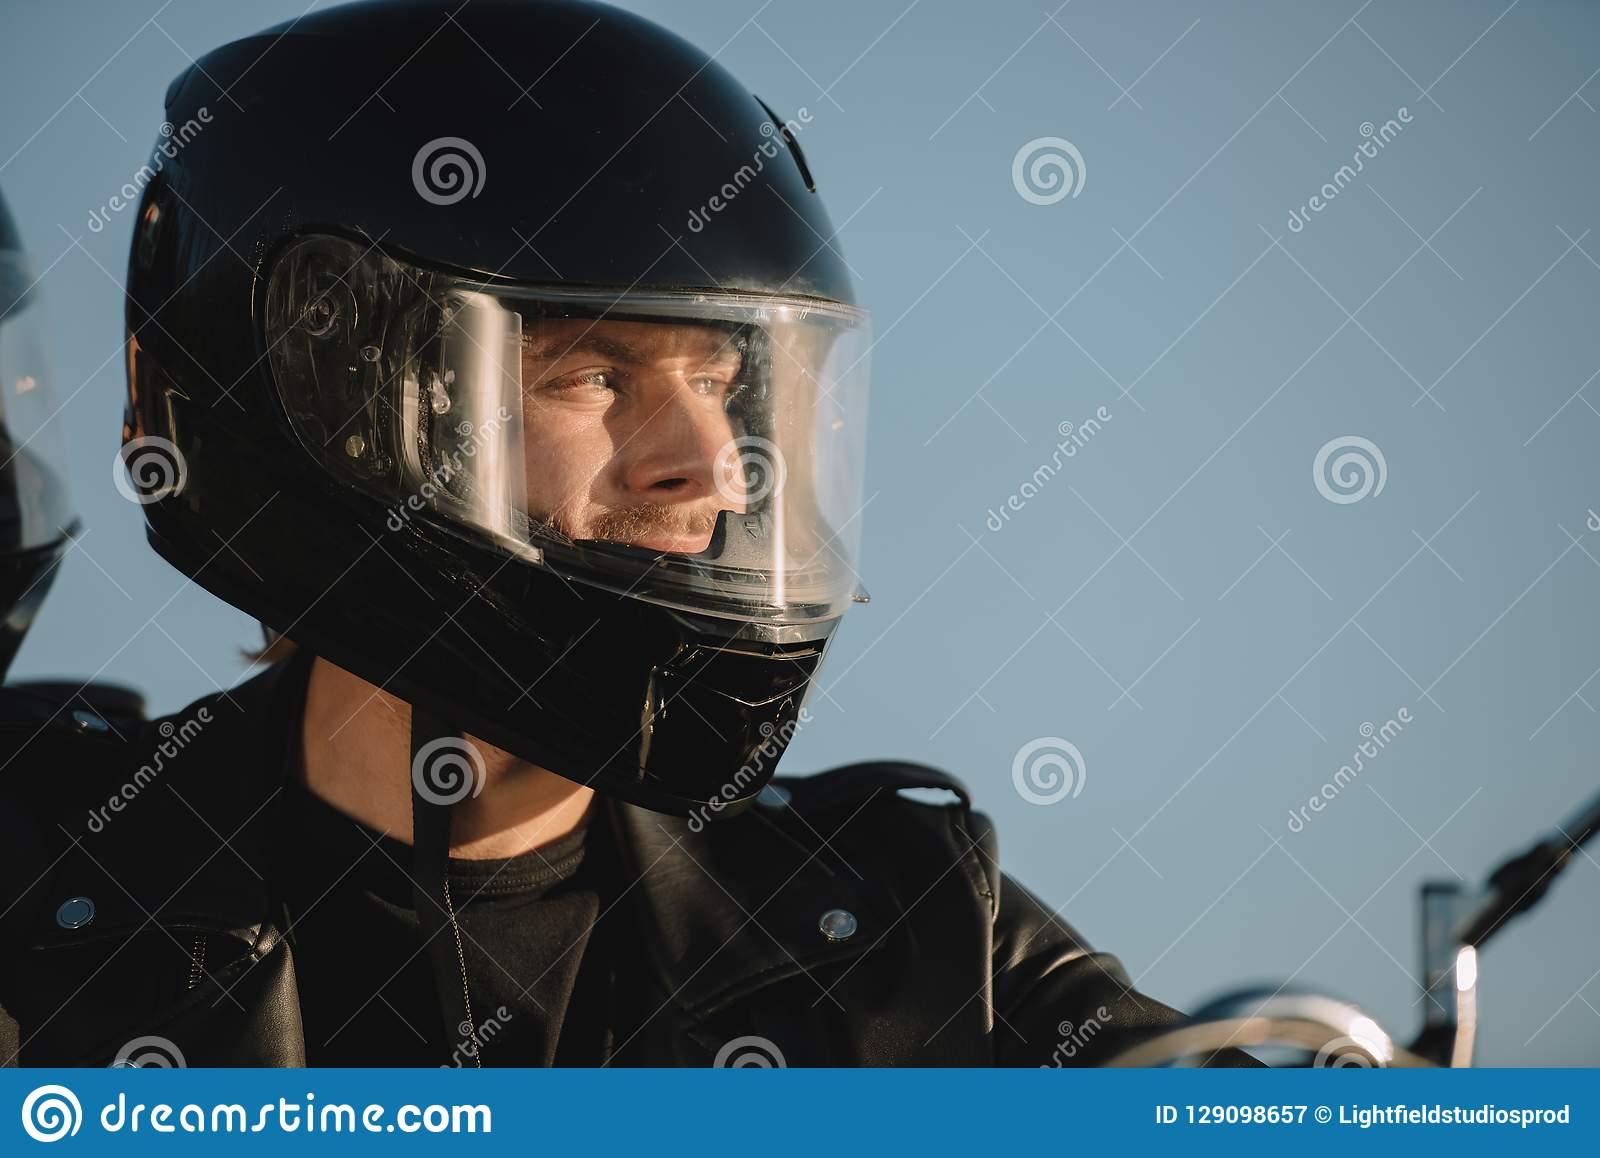helmet: (137, 17, 834, 794)
